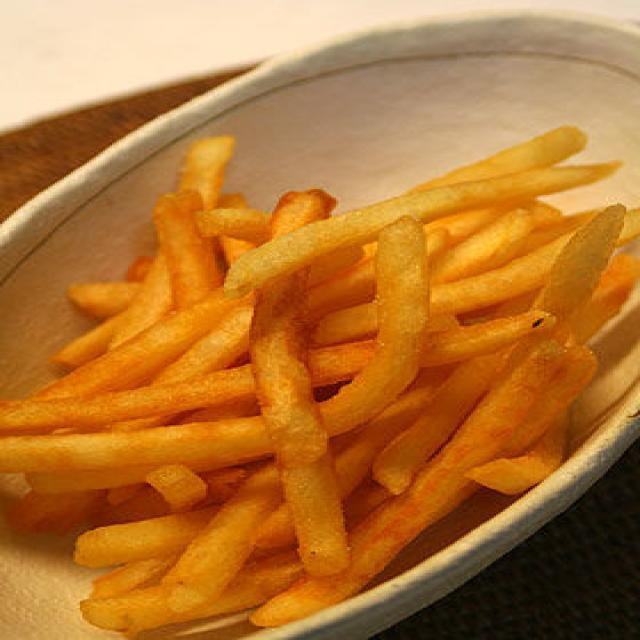French Fries: (29, 114, 609, 622)
